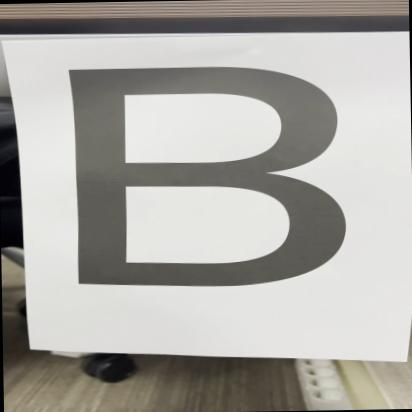seat: (46, 52, 376, 304)
